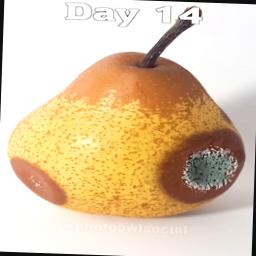Pear Rotten: (6, 1, 256, 223)
